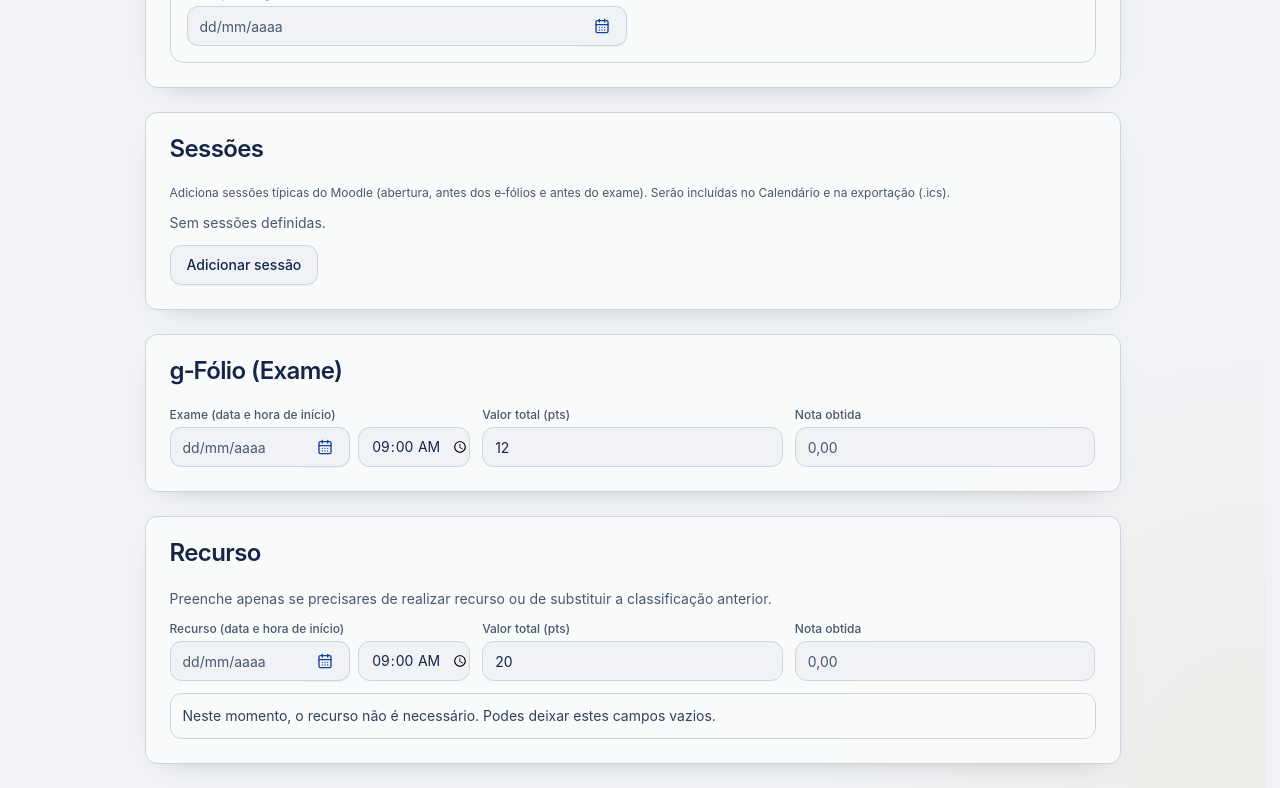
it: cartão de resultado no detalhe da cadeira › não apresenta uma nota definitiva quando faltam classificações
(page scrolled)
In the 1st field with placeholder "0,00": [945, 447] box [795,427,1096,467], type "8"
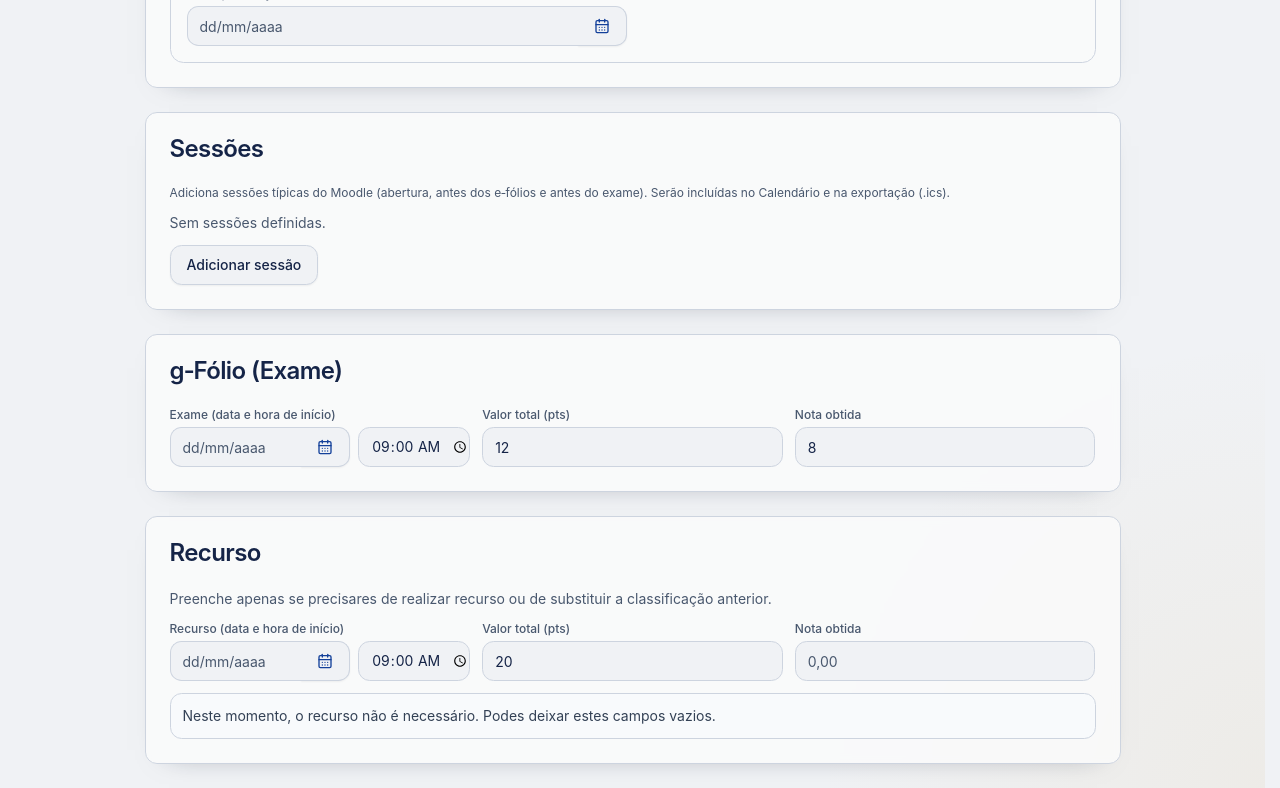
Leave the 2nd field with placeholder "0,00", box [795,427,1096,467]
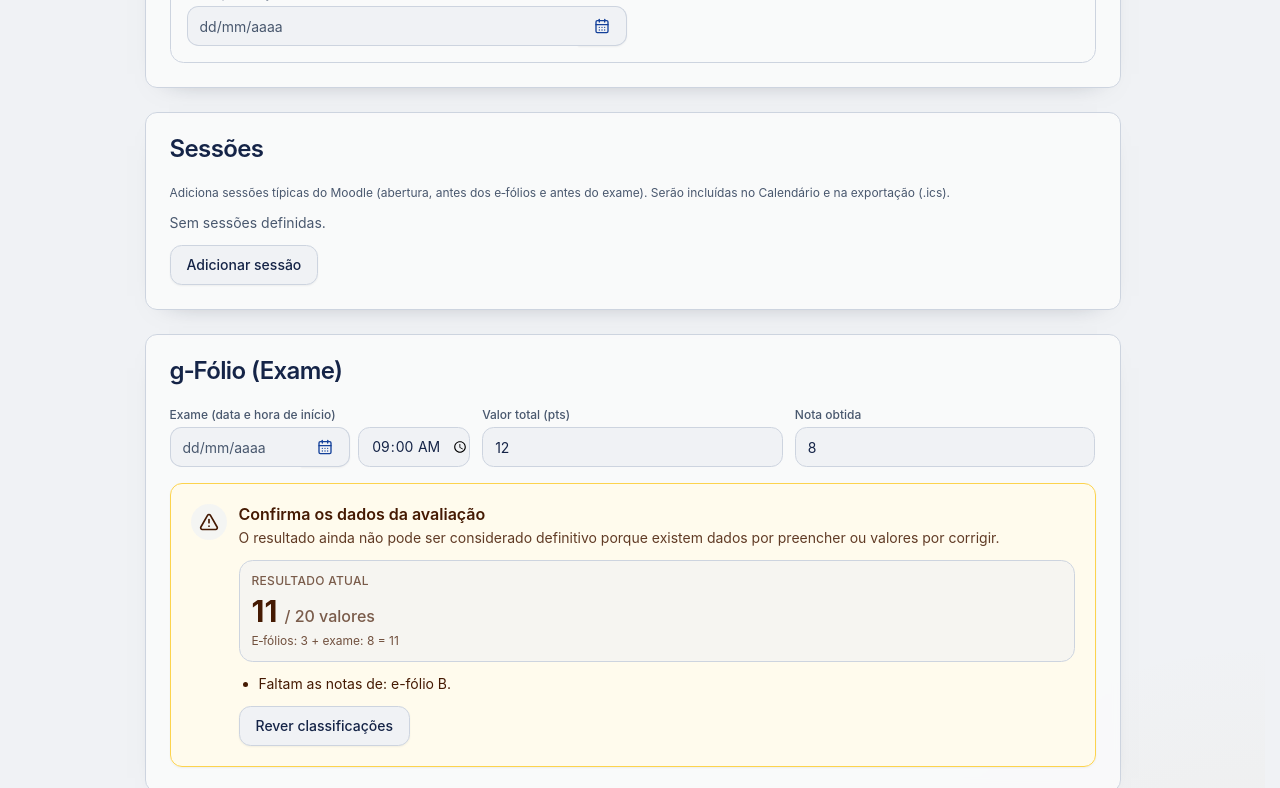
expect the heading "Confirma os dados da avaliação" is shown: met, box [238,504,485,524]
expect the list item "Faltam as notas de: e-fólio B." is shown: met, box [258,675,451,692]
